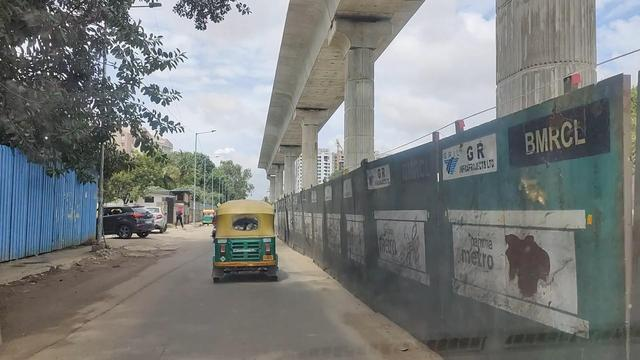LMV: (208, 198, 282, 282)
RoadDamages: (122, 238, 177, 262)
